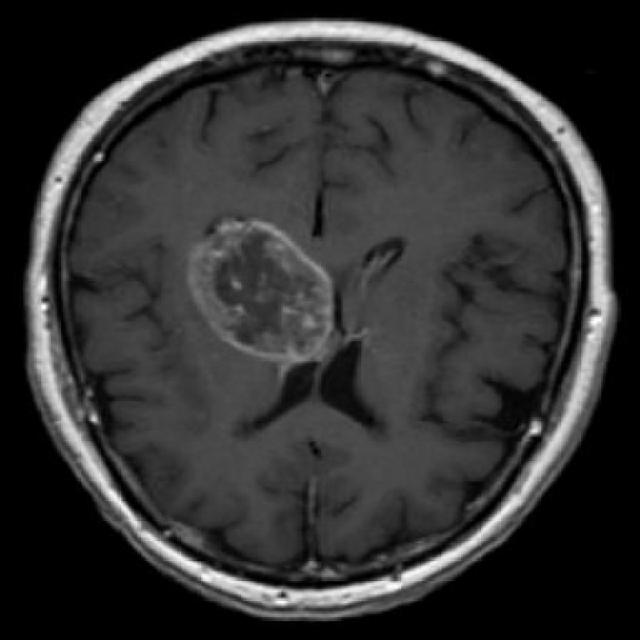Tumor: (185, 202, 357, 381)
